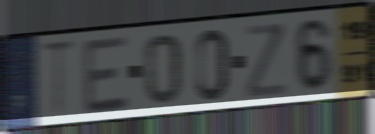0: (141, 32, 185, 107), (193, 27, 229, 104)
6: (292, 17, 336, 96)
E: (81, 32, 132, 118)
T: (39, 38, 78, 120)
Z: (244, 19, 290, 101)
